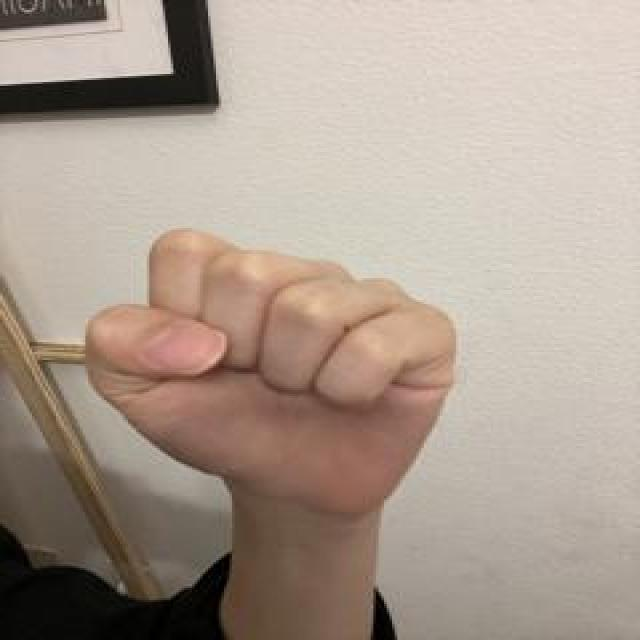S: (73, 222, 471, 514)
